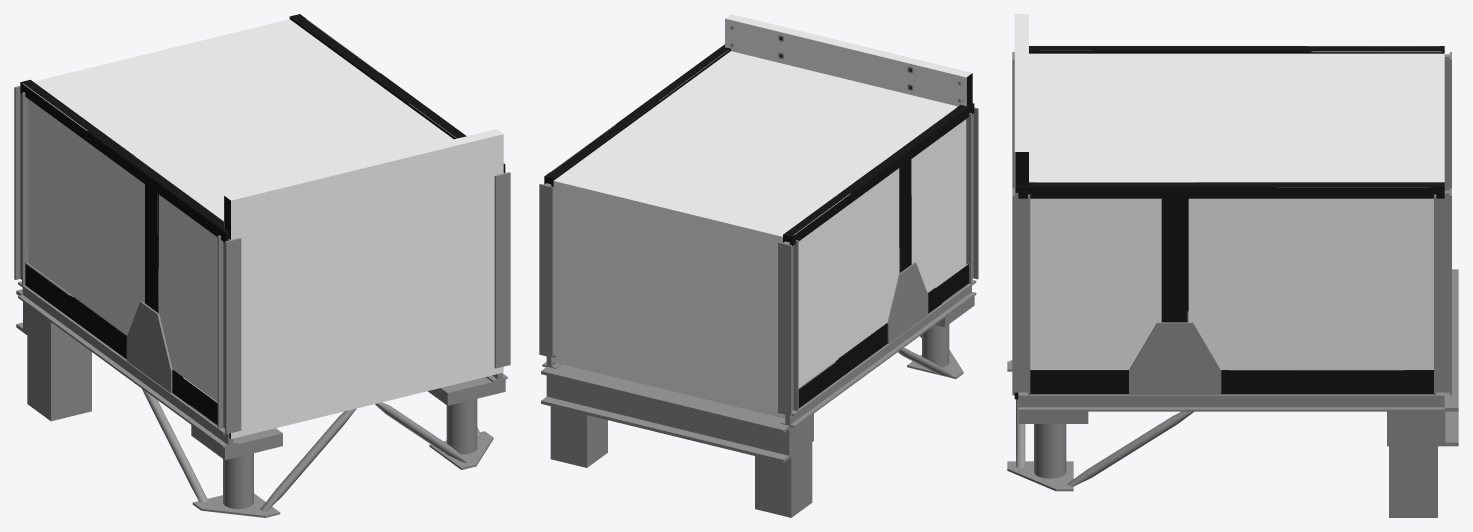
File: lamp_rover.fbx
3 renders of one model, left to right at view 1: azimuth 30°, elevation 25°; view 2: azimuth 150°, elevation 25°; view 3: azimuth 270°, elevation 25°, orthographic. The views are drawn at different scales.
Visible parts, largest first — view 1: Plane; view 2: Plane; view 3: Plane.
Part boxes in pixels (box(x1,y1,x2,y2)): Plane: box(14, 14, 510, 517); Plane: box(539, 14, 978, 517); Plane: box(1007, 14, 1458, 517).
Bounding box in the file's own units: 120 × 139 × 155.
